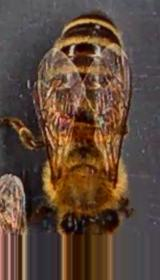varroa_mite: (52, 104, 72, 138)
